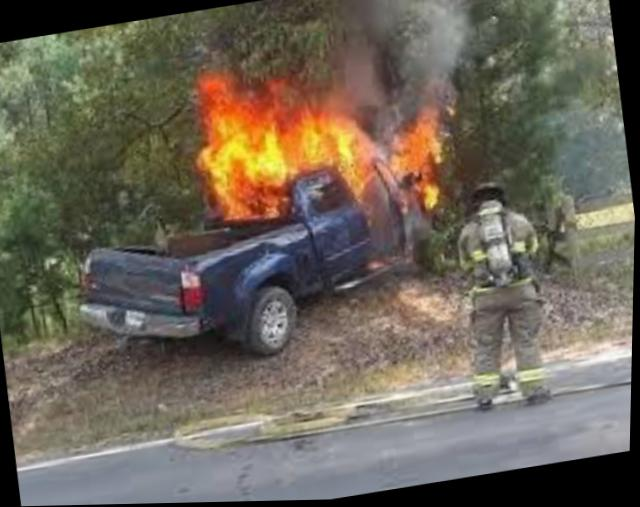fire: (177, 21, 460, 242)
